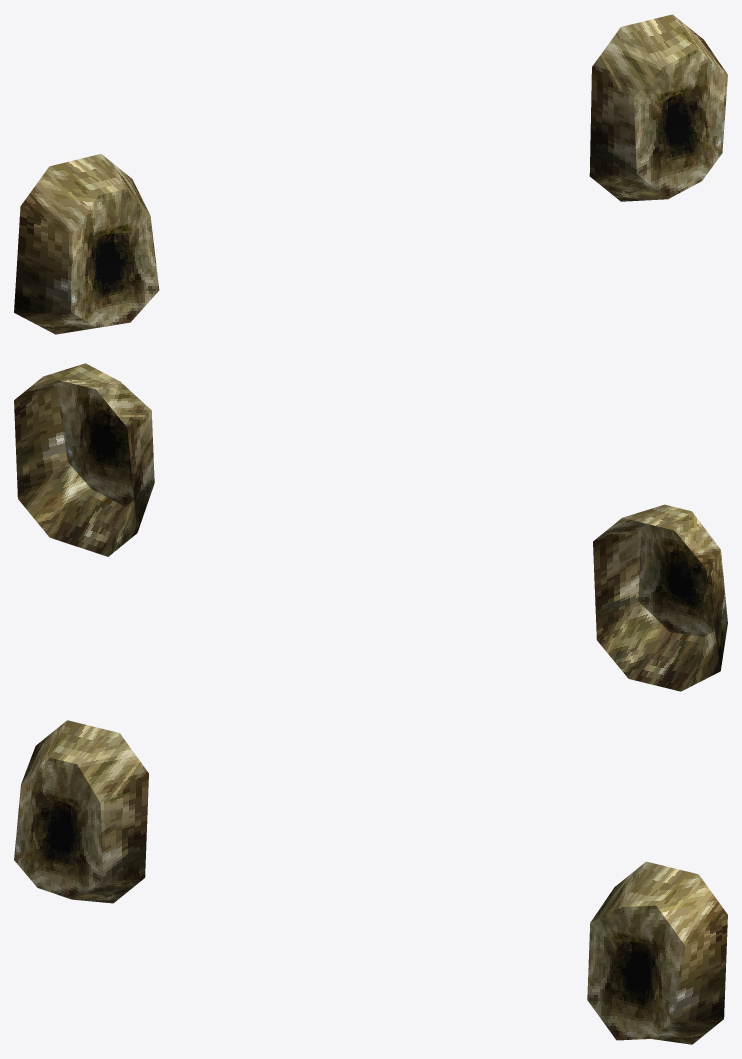
Rendered from hrz52.glb.
3 views of the same model, one above another, from view 1: azimuth 30°, elevation 25°; view 2: azimuth 150°, elevation 25°; view 3: azimuth 330°, elevation 25° (orthographic).
Parts seen in each view (by area): view 1: hrz52-col; view 2: hrz52-col; view 3: hrz52-col.
Boxes of the visible parts, bbox=[...] form: hrz52-col: bbox=[14, 14, 727, 334]; hrz52-col: bbox=[14, 363, 727, 691]; hrz52-col: bbox=[14, 720, 727, 1044].
Bounding box in the file's own units: 4.2 × 0.9764 × 0.4026.
Materials: 1 (1 with a texture image).
